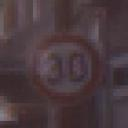speed_limit_30: (30, 35, 104, 106)
